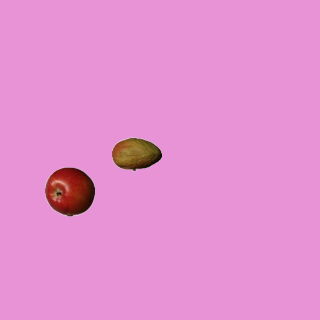Apple Braeburn: (44, 166, 94, 216)
Papaya: (111, 129, 161, 179)
